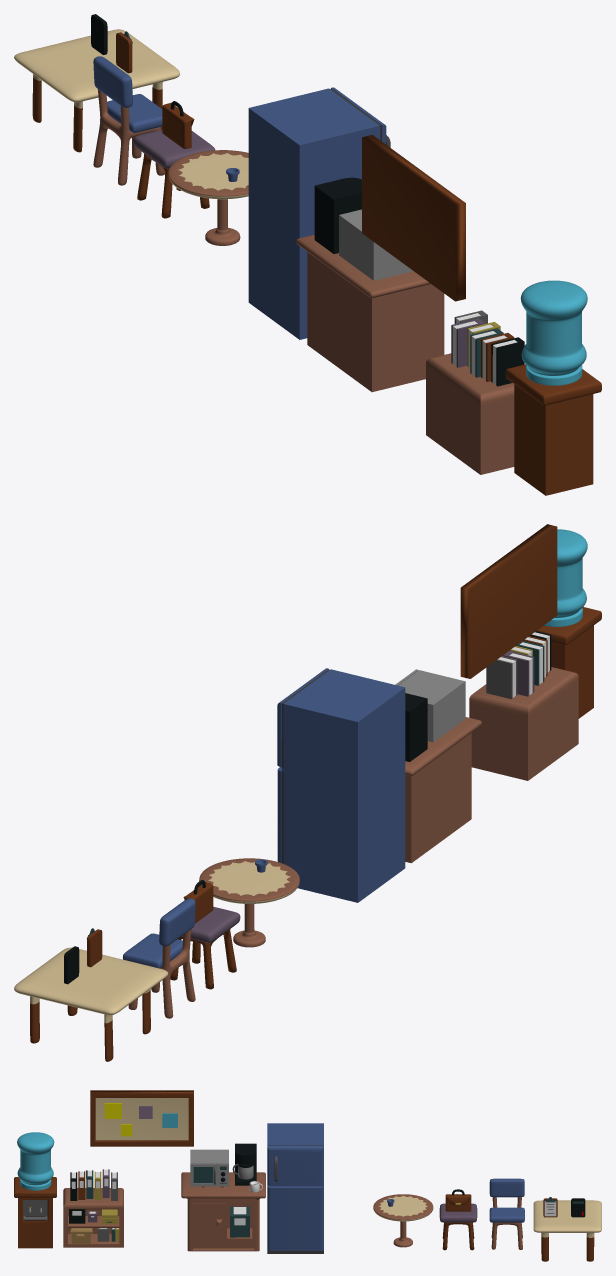
File: Break room.fbx
3 views of the same model, one above another, from view 1: azimuth 30°, elevation 25°; view 2: azimuth 150°, elevation 25°; view 3: azimuth 270°, elevation 25° (orthographic). The views are drawn at different scales.
Parts seen in each view (by area): view 1: Cube.053, Cube.052, Cube.050, Cube.051, Cube.012, Cube.066, Circle.010, Circle.012, Cube.059, Cube.056, Cube.064, Cube.061 (+7 smaller); view 2: Cube.053, Cube.050, Cube.012, Cube.052, Cube.066, Circle.012, Cube.051, Cube.059, Circle.010, Cube.064, Cube.056, Cube.014 (+6 smaller); view 3: Cube.053, Cube.050, Cube.052, Cube.051, Cube.066, Cube.012, Circle.010, Circle.012, Cube.059, Cube.056, Cube.065, Cube.054 (+10 smaller).
Boxes of the visible parts, x1=… form: Cube.053: x1=248, y1=87, x2=386, y2=339; Cube.052: x1=296, y1=234, x2=444, y2=392; Cube.050: x1=362, y1=134, x2=465, y2=301; Cube.051: x1=505, y1=364, x2=601, y2=495; Cube.012: x1=426, y1=353, x2=514, y2=474; Cube.066: x1=14, y1=29, x2=179, y2=152; Circle.010: x1=520, y1=280, x2=587, y2=385; Circle.012: x1=168, y1=150, x2=248, y2=245; Cube.059: x1=339, y1=209, x2=413, y2=280; Cube.056: x1=314, y1=177, x2=361, y2=253; Cube.064: x1=93, y1=89, x2=165, y2=185; Cube.061: x1=133, y1=129, x2=215, y2=168; Cube.053: x1=277, y1=668, x2=405, y2=902; Cube.050: x1=460, y1=524, x2=557, y2=678; Cube.012: x1=469, y1=667, x2=578, y2=780; Cube.052: x1=405, y1=717, x2=481, y2=863; Cube.066: x1=14, y1=947, x2=168, y2=1061; Circle.012: x1=199, y1=858, x2=299, y2=947; Cube.051: x1=537, y1=607, x2=601, y2=718; Cube.059: x1=395, y1=669, x2=465, y2=742; Circle.010: x1=544, y1=529, x2=587, y2=626; Cube.064: x1=128, y1=929, x2=195, y2=1018; Cube.056: x1=405, y1=693, x2=427, y2=761; Cube.014: x1=486, y1=656, x2=517, y2=699; Cube.053: x1=267, y1=1123, x2=323, y2=1253; Cube.050: x1=90, y1=1090, x2=193, y2=1146; Cube.052: x1=181, y1=1172, x2=265, y2=1251; Cube.051: x1=14, y1=1177, x2=56, y2=1248; Cube.066: x1=533, y1=1200, x2=601, y2=1261; Cube.012: x1=63, y1=1188, x2=123, y2=1247; Circle.010: x1=17, y1=1132, x2=54, y2=1190; Circle.012: x1=373, y1=1194, x2=433, y2=1247; Cube.059: x1=190, y1=1149, x2=228, y2=1186; Cube.056: x1=235, y1=1143, x2=256, y2=1185; Cube.065: x1=489, y1=1178, x2=524, y2=1197; Cube.054: x1=230, y1=1206, x2=249, y2=1237.
Size of the model in its own units: 968 by 1805 by 6853.
